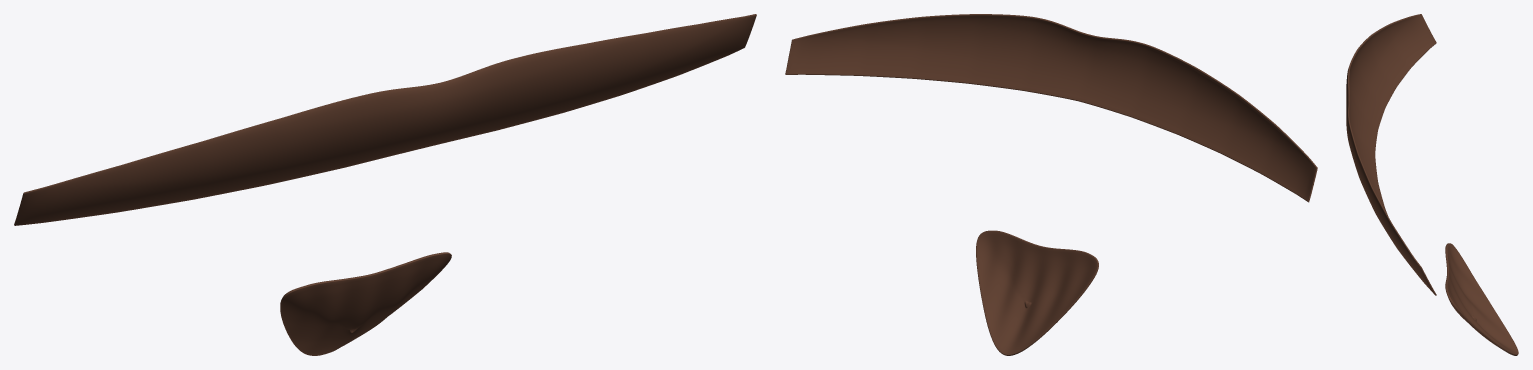
Rendered from Masculine-Masculine-groom-patch-10327d59.glb.
3 views of the same model, side by side, from view 1: azimuth 30°, elevation 25°; view 2: azimuth 150°, elevation 25°; view 3: azimuth 270°, elevation 25° (orthographic). The views are drawn at different scales.
Parts seen in each view (by area): view 1: Groom / shared mustache208, Groom / sculpted soul patch187; view 2: Groom / shared mustache208, Groom / sculpted soul patch187; view 3: Groom / shared mustache208, Groom / sculpted soul patch187.
Part boxes in pixels (bbox=[...]): Groom / shared mustache208: bbox=[14, 14, 756, 225]; Groom / sculpted soul patch187: bbox=[280, 252, 451, 355]; Groom / shared mustache208: bbox=[785, 14, 1317, 202]; Groom / sculpted soul patch187: bbox=[976, 230, 1098, 355]; Groom / shared mustache208: bbox=[1346, 14, 1436, 295]; Groom / sculpted soul patch187: bbox=[1445, 243, 1518, 355].
Bounding box in the file's own units: 0.2466 × 0.1176 × 0.0709.
